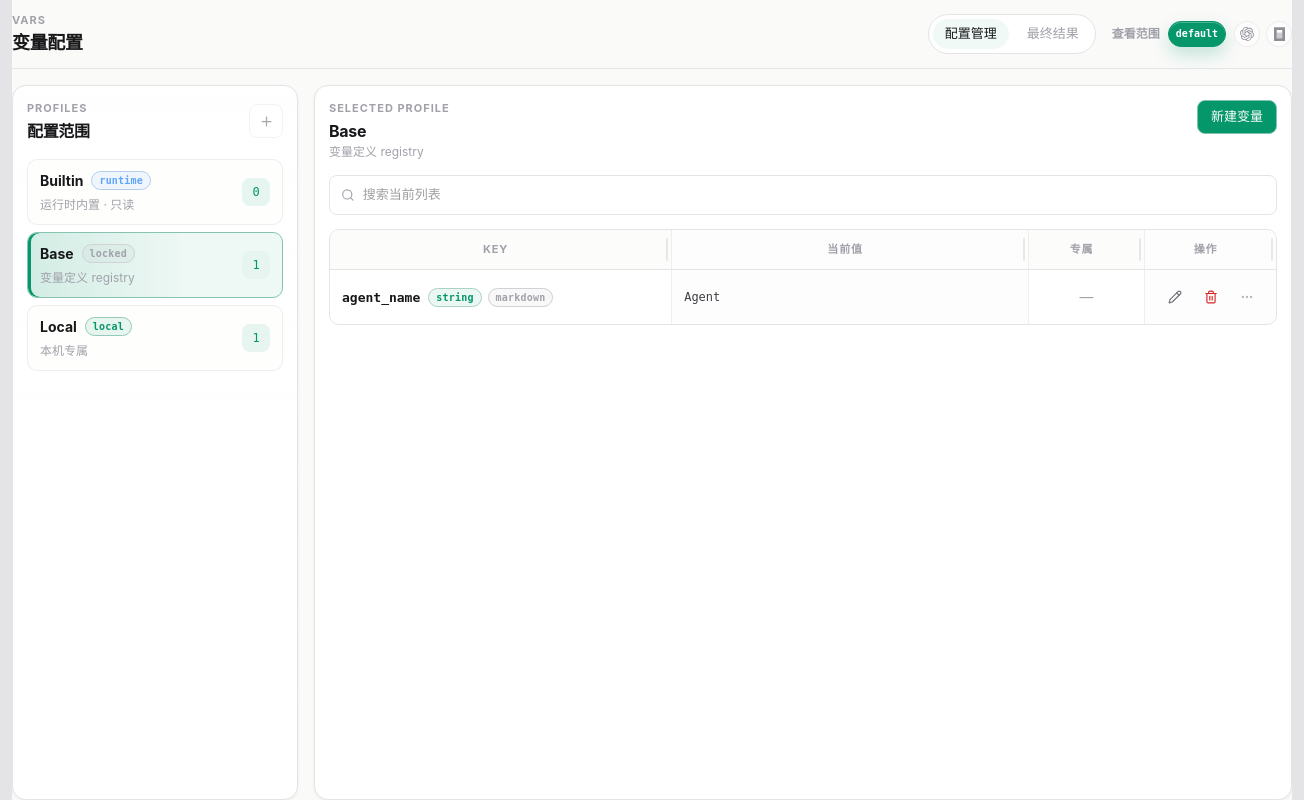
Test: Vars view › switches configuration current values by agent without leaving the current tab
Click the button "Local local 本机专属 1": [155, 338] box x1=27 y1=305 x2=283 y2=371
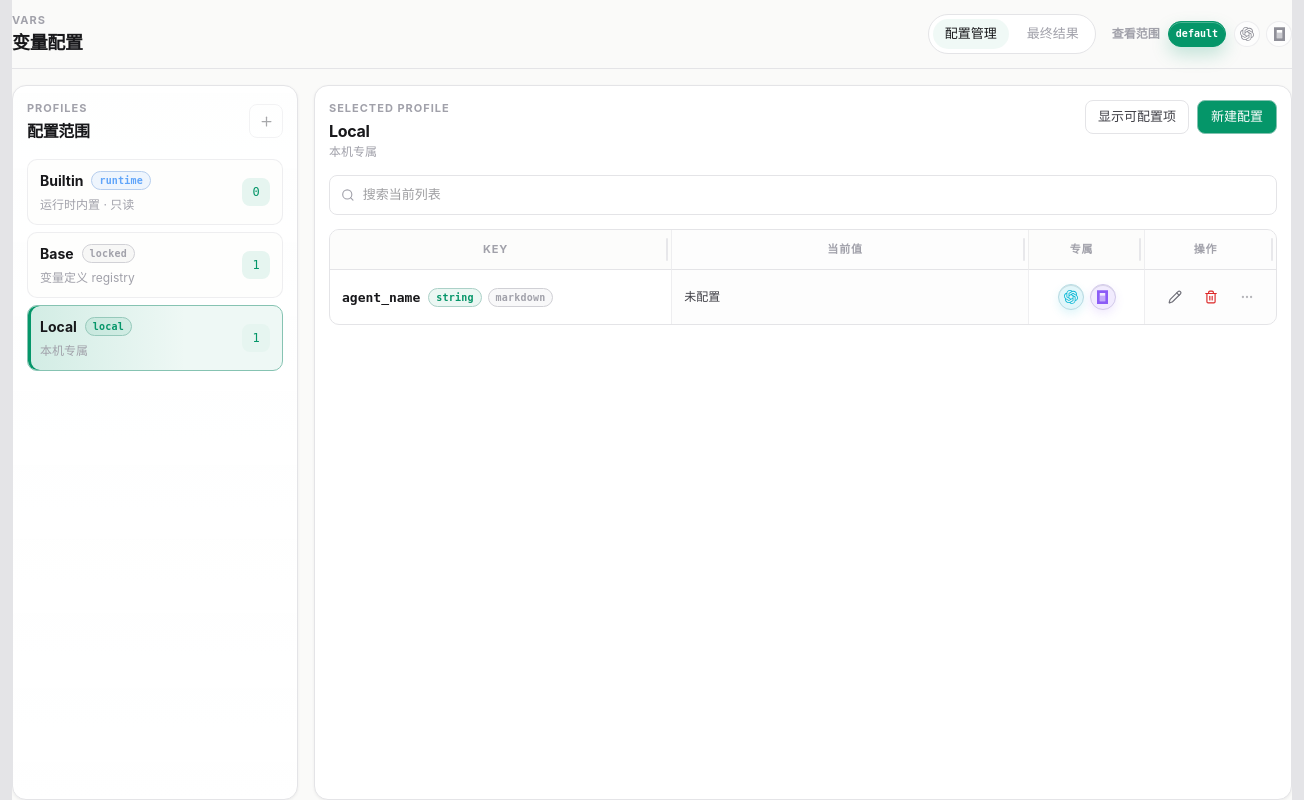
Check: the row "agent_name string markdown 未配置" is shown, box x1=330 y1=270 x2=1276 y2=324
Check: the element named "OpenCode" is shown, box x1=1090 y1=284 x2=1116 y2=310
Click the button named "OpenCode": [1279, 34] box x1=1266 y1=21 x2=1292 y2=47
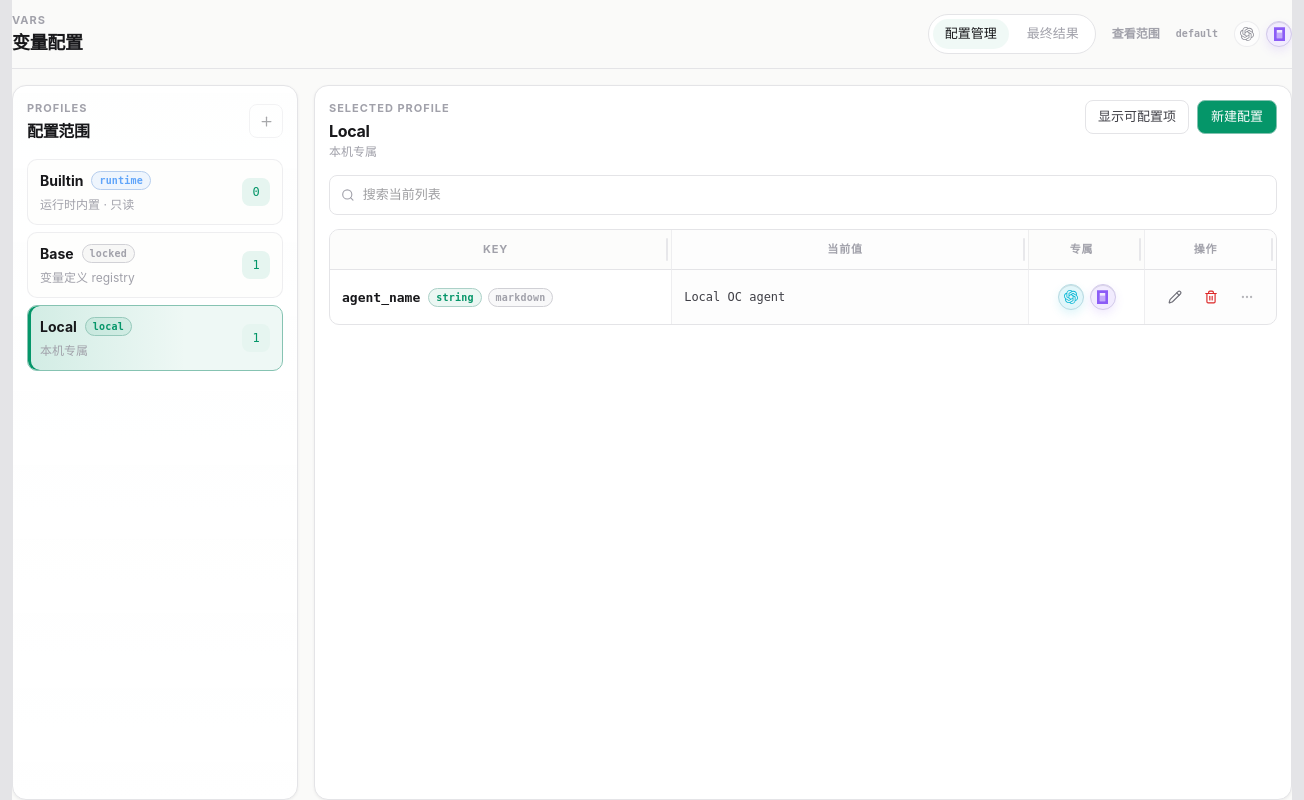
Check: the row "agent_name string markdown Local OC agent" is shown, box x1=330 y1=270 x2=1276 y2=324
Check: the cell "agent_name" no longer shows "未配置"
